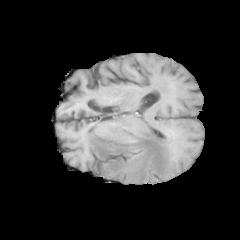glioma: (86, 126, 176, 181)
